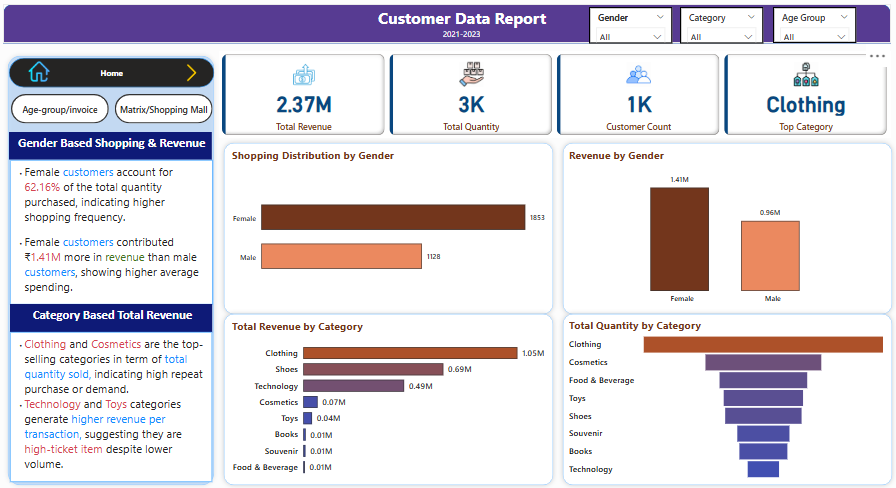

What the dashboard file says about the page in this screenshot:
{"tool":"powerbi","page":{"name":"Home","canvas":[1500,820],"ordinal":0},"visuals":[{"type":"shape","box":[10,88.3,360,731.7],"z":0},{"type":"cardVisual","fields":{"Data":["Sum(customer.Total Revenue)","customer.Total Quantity","customer.Customer Count","customer.Top Category"]},"box":[370,88.3,1120,145],"z":1000},{"type":"shape","box":[10,10,1480,65.7],"z":2000},{"type":"textbox","box":[614.3,10,320,50],"z":3000},{"type":"textbox","box":[731.7,46.7,85,28.3],"z":4000},{"type":"shape","box":[370,233.3,565,301.7],"z":5000},{"type":"textbox","box":[19.6,223.2,337.5,46.4],"z":6000},{"type":"barChart","title":"Shopping Distribution by Gender","fields":{"Category":["customer.gender"],"Y":["customer.Total Quantity"]},"box":[386.7,250,531.7,268.3],"z":7000},{"type":"shape","box":[935,233.3,565,301.7],"z":8000},{"type":"clusteredColumnChart","title":"Revenue by Gender","fields":{"Category":["customer.gender"],"Y":["Sum(customer.Total Revenue)"]},"box":[948.3,250,538.3,268.3],"z":9000},{"type":"shape","box":[370,518.3,565,301.7],"z":10000},{"type":"shape","box":[935,518.3,565,301.7],"z":11000},{"type":"clusteredBarChart","title":"Total Revenue by Category","fields":{"Category":["customer.category"],"Y":["Sum(customer.Total Revenue)"]},"box":[386.7,535,531.7,273.3],"z":12000},{"type":"funnel","title":"Total Quantity by Category","fields":{"Category":["customer.category"],"Y":["customer.Total Quantity"]},"box":[948.3,533.3,538.3,273.3],"z":13000},{"type":"textbox","box":[21.4,269.6,337.5,241.1],"z":14000},{"type":"textbox","box":[21.7,510,336.7,46.7],"z":15000},{"type":"textbox","box":[21.7,556.7,336.7,250],"z":16000},{"type":"pageNavigator","box":[19.6,100,342.9,50],"z":17000},{"type":"pageNavigator","box":[23.2,160.7,337.5,50],"z":18000},{"type":"image","box":[305.4,105.4,39.3,39.3],"z":19000},{"type":"image","box":[46.4,100,46.4,44.6],"z":20000},{"type":"slicer","fields":{"Values":["customer.gender"]},"box":[987.5,14.3,139.3,60.7],"z":21000},{"type":"slicer","fields":{"Values":["customer.Category"]},"box":[1139,14.3,139.3,60.7],"z":22000},{"type":"slicer","fields":{"Values":["customer.Age Group"]},"box":[1292.9,14.3,139,60],"z":23000}]}

Visuals, with their boxes in screenshot pixels (x1, y1, x2, y2), scaled from the page's 1500x820 canvas onto the 896x488 screenshot:
shape: BBox(6, 53, 221, 487)
cardVisual - Sum(customer.Total Revenue) x customer.Total Quantity: BBox(221, 53, 890, 139)
shape: BBox(6, 6, 890, 45)
textbox: BBox(367, 6, 558, 36)
textbox: BBox(437, 28, 488, 45)
shape: BBox(221, 139, 559, 318)
textbox: BBox(12, 133, 213, 160)
"Shopping Distribution by Gender" barChart: BBox(231, 149, 549, 308)
shape: BBox(559, 139, 895, 318)
"Revenue by Gender" clusteredColumnChart: BBox(566, 149, 888, 308)
shape: BBox(221, 308, 559, 487)
shape: BBox(559, 308, 895, 487)
"Total Revenue by Category" clusteredBarChart: BBox(231, 318, 549, 481)
"Total Quantity by Category" funnel: BBox(566, 317, 888, 480)
textbox: BBox(13, 160, 214, 304)
textbox: BBox(13, 304, 214, 331)
textbox: BBox(13, 331, 214, 480)
pageNavigator: BBox(12, 60, 217, 89)
pageNavigator: BBox(14, 96, 215, 125)
image: BBox(182, 63, 206, 86)
image: BBox(28, 60, 55, 86)
slicer - customer.gender: BBox(590, 9, 673, 45)
slicer - customer.Category: BBox(680, 9, 764, 45)
slicer - customer.Age Group: BBox(772, 9, 855, 44)
